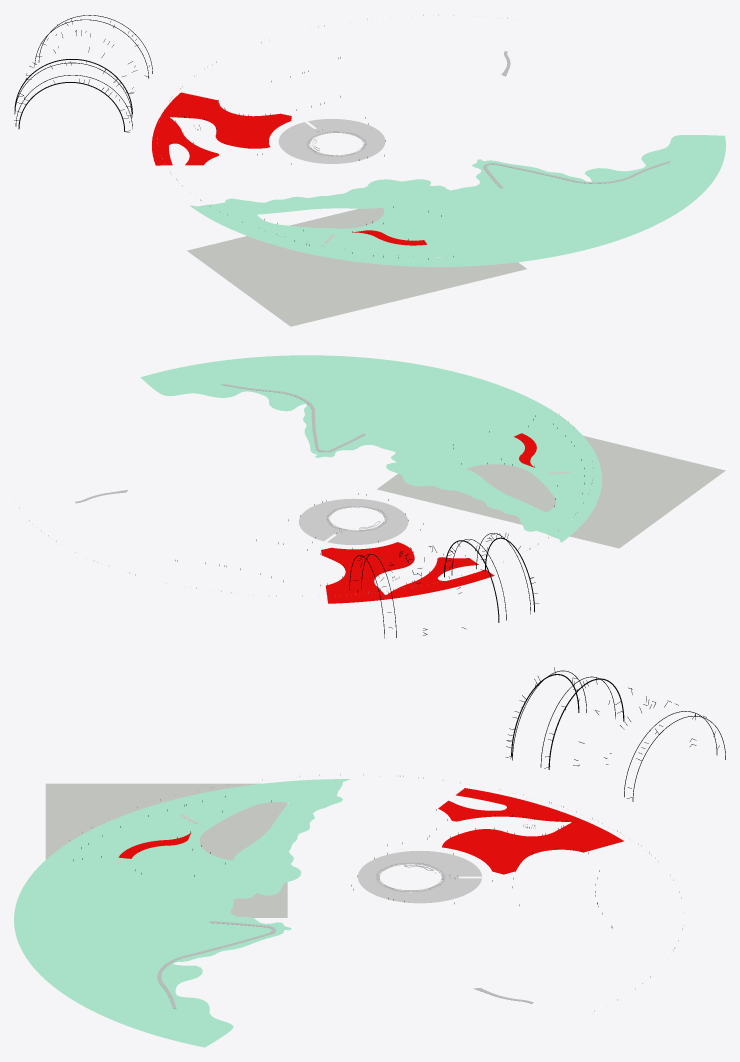
The model's file is mahmoud-design-world-009.glb.
3 views of the same model, one above another, from view 1: azimuth 30°, elevation 25°; view 2: azimuth 150°, elevation 25°; view 3: azimuth 270°, elevation 25° (orthographic). The views are drawn at different scales.
Visible parts, largest first — view 1: DESIGN-OCCURRENCE-KAP-R2-85EE56BCE5A7153D5D45C959, DESIGN-OCCURRENCE-KAP-R2-E3C91E543D34857D489F1BF4, DESIGN-OCCURRENCE-KAP-R2-B88D3E2560ED40FA3CD75D29, DESIGN-OCCURRENCE-KAP-R2-026C084BB150AD753A0F41B1, DESIGN-OCCURRENCE-KAP-R2-B68751DFEF0C9540E24C756C; view 2: DESIGN-OCCURRENCE-KAP-R2-85EE56BCE5A7153D5D45C959, DESIGN-OCCURRENCE-KAP-R2-E3C91E543D34857D489F1BF4, DESIGN-OCCURRENCE-KAP-R2-B88D3E2560ED40FA3CD75D29, DESIGN-OCCURRENCE-KAP-R2-026C084BB150AD753A0F41B1, DESIGN-OCCURRENCE-KAP-R2-B68751DFEF0C9540E24C756C; view 3: DESIGN-OCCURRENCE-KAP-R2-85EE56BCE5A7153D5D45C959, DESIGN-OCCURRENCE-KAP-R2-E3C91E543D34857D489F1BF4, DESIGN-OCCURRENCE-KAP-R2-B88D3E2560ED40FA3CD75D29, DESIGN-OCCURRENCE-KAP-R2-026C084BB150AD753A0F41B1, DESIGN-OCCURRENCE-KAP-R2-B68751DFEF0C9540E24C756C.
Boxes of the visible parts, x1,y1,x2,y2 form: DESIGN-OCCURRENCE-KAP-R2-85EE56BCE5A7153D5D45C959: [189, 135, 725, 266]; DESIGN-OCCURRENCE-KAP-R2-E3C91E543D34857D489F1BF4: [187, 207, 526, 326]; DESIGN-OCCURRENCE-KAP-R2-B88D3E2560ED40FA3CD75D29: [152, 92, 291, 165]; DESIGN-OCCURRENCE-KAP-R2-026C084BB150AD753A0F41B1: [278, 119, 385, 163]; DESIGN-OCCURRENCE-KAP-R2-B68751DFEF0C9540E24C756C: [483, 161, 670, 188]; DESIGN-OCCURRENCE-KAP-R2-85EE56BCE5A7153D5D45C959: [140, 355, 601, 542]; DESIGN-OCCURRENCE-KAP-R2-E3C91E543D34857D489F1BF4: [377, 436, 725, 548]; DESIGN-OCCURRENCE-KAP-R2-B88D3E2560ED40FA3CD75D29: [321, 542, 494, 603]; DESIGN-OCCURRENCE-KAP-R2-026C084BB150AD753A0F41B1: [298, 498, 408, 544]; DESIGN-OCCURRENCE-KAP-R2-B68751DFEF0C9540E24C756C: [221, 384, 365, 452]; DESIGN-OCCURRENCE-KAP-R2-85EE56BCE5A7153D5D45C959: [14, 779, 350, 1047]; DESIGN-OCCURRENCE-KAP-R2-E3C91E543D34857D489F1BF4: [45, 783, 287, 917]; DESIGN-OCCURRENCE-KAP-R2-B88D3E2560ED40FA3CD75D29: [438, 788, 623, 874]; DESIGN-OCCURRENCE-KAP-R2-026C084BB150AD753A0F41B1: [358, 850, 481, 903]; DESIGN-OCCURRENCE-KAP-R2-B68751DFEF0C9540E24C756C: [157, 921, 275, 1009].
Size of the model in its own units: 382 by 62.34 by 368.
